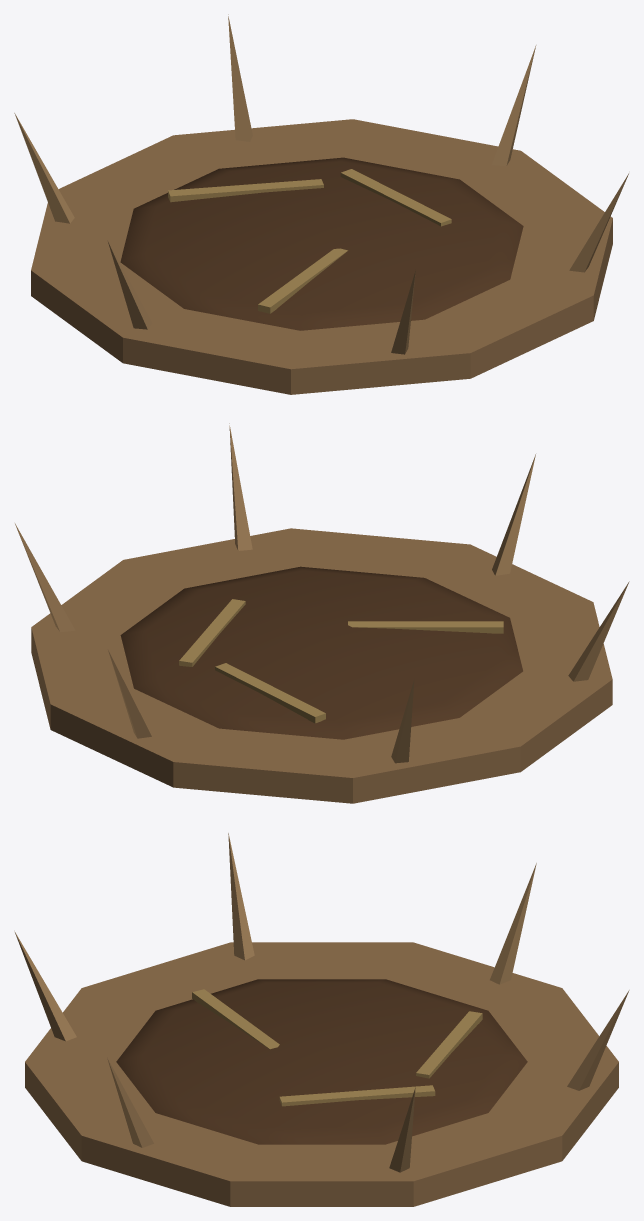
Rendered from mud_trap.fbx.
3 views of the same model, one above another, from view 1: azimuth 30°, elevation 25°; view 2: azimuth 150°, elevation 25°; view 3: azimuth 270°, elevation 25° (orthographic).
Parts seen in each view (by area): view 1: Prop; view 2: Prop; view 3: Prop.
Part boxes in pixels (x1,y1,x2,y2): Prop: (14,14,628,394); Prop: (15,423,629,803); Prop: (14,833,629,1206).
Bounding box in the file's own units: 0.8526 × 0.8709 × 0.2231.
